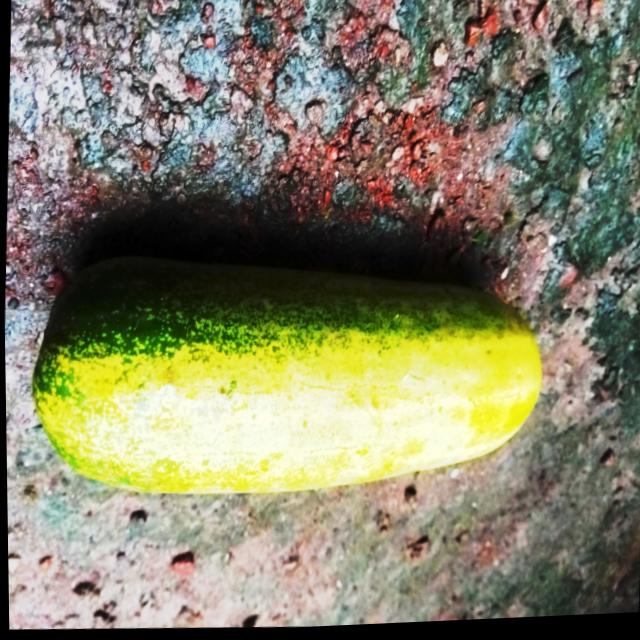Fresh-Cucumber: (22, 247, 548, 518)
